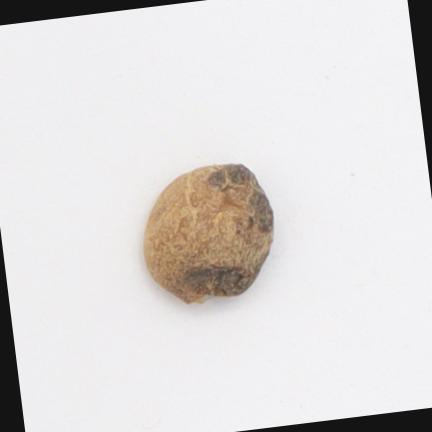partial-black: (144, 164, 273, 302)
